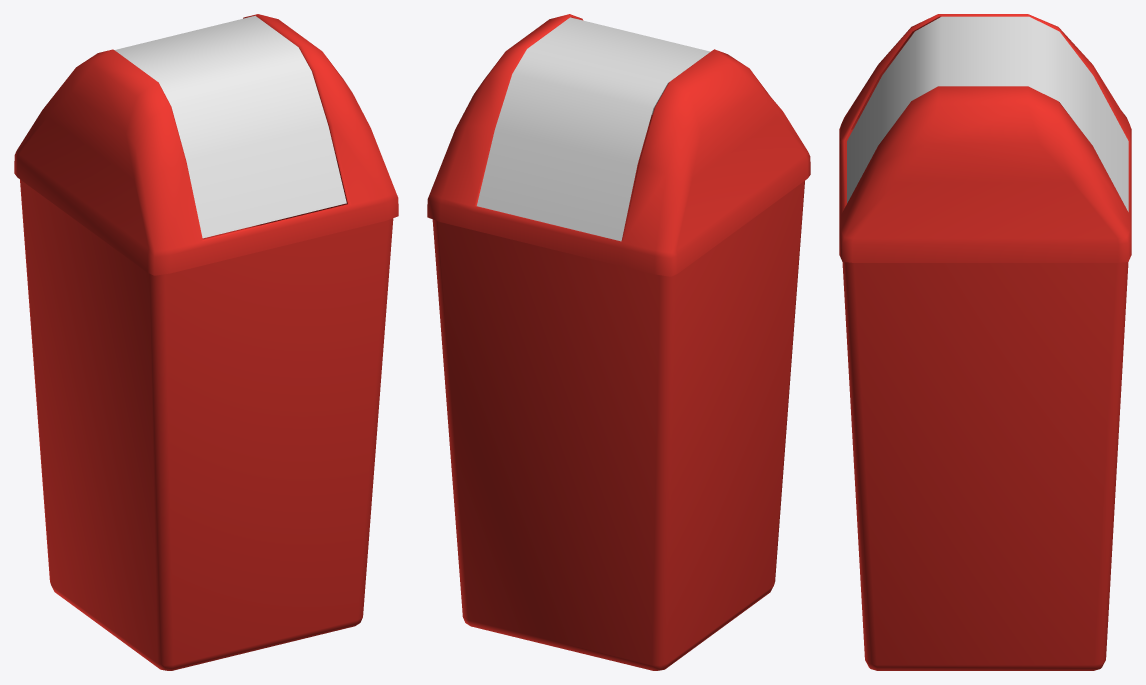
The model's file is sampah_b3.fbx.
3 views of the same model, side by side, from view 1: azimuth 30°, elevation 25°; view 2: azimuth 150°, elevation 25°; view 3: azimuth 270°, elevation 25° (orthographic). The views are drawn at different scales.
Parts seen in each view (by area): view 1: Trashcan_01_body, Trashcan_01_cover, Trashcan_01_lid; view 2: Trashcan_01_body, Trashcan_01_cover, Trashcan_01_lid; view 3: Trashcan_01_body, Trashcan_01_cover, Trashcan_01_lid.
Boxes of the visible parts, box(x1,y1,x2,y2) form: Trashcan_01_body: box(20, 160, 393, 670); Trashcan_01_cover: box(14, 14, 398, 275); Trashcan_01_lid: box(114, 15, 346, 238); Trashcan_01_body: box(432, 124, 804, 670); Trashcan_01_cover: box(427, 14, 810, 276); Trashcan_01_lid: box(477, 17, 710, 241); Trashcan_01_body: box(842, 129, 1128, 670); Trashcan_01_cover: box(839, 14, 1131, 262); Trashcan_01_lid: box(847, 16, 1128, 211).
Bounding box in the file's own units: 24.4 × 52.88 × 24.4.
